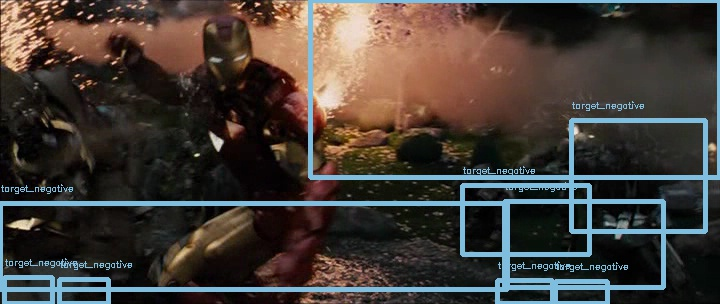person: (200, 25, 250, 93), (199, 25, 249, 93), (201, 25, 251, 93), (200, 24, 250, 92), (200, 26, 250, 94)
target_negative: (74, 28, 487, 257), (195, 174, 614, 230), (91, 27, 170, 165), (279, 226, 370, 276), (349, 43, 545, 64), (429, 70, 476, 119)
